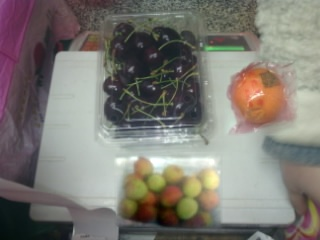juzi: (221, 57, 301, 138)
lizhi: (112, 151, 225, 231)
yintao: (89, 11, 207, 145)
